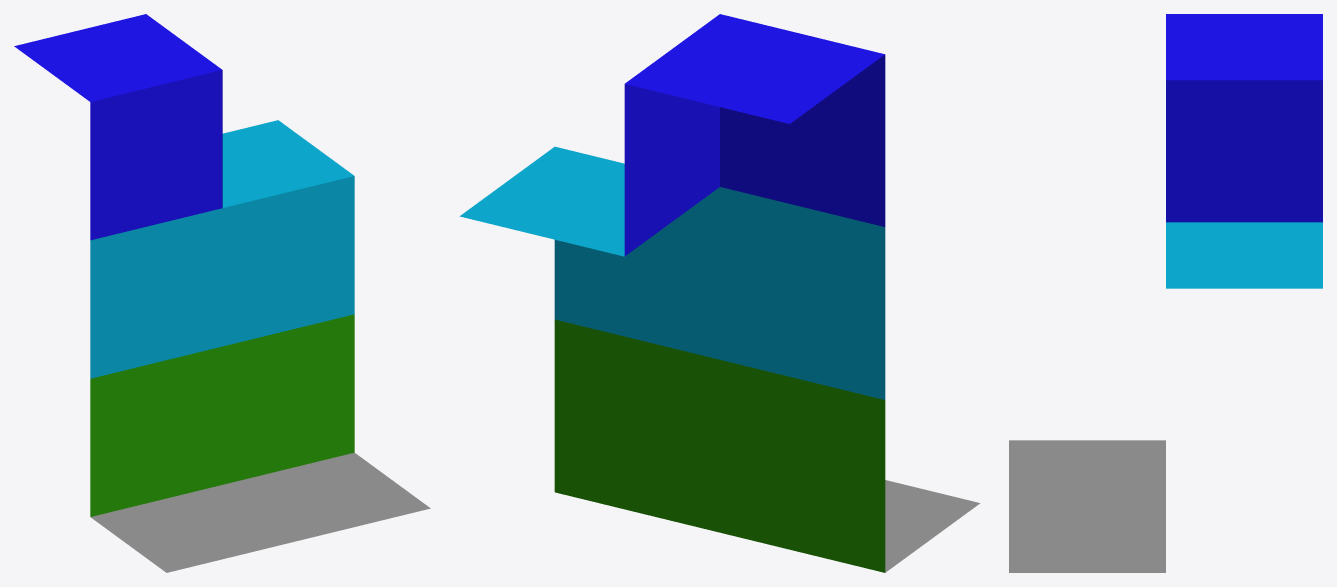
3 renders of one model, left to right at view 1: azimuth 30°, elevation 25°; view 2: azimuth 150°, elevation 25°; view 3: azimuth 270°, elevation 25°, orthographic. The views are drawn at different scales.
Parts seen in each view (by area): view 1: T_233_0_0; view 2: T_233_0_0; view 3: T_233_0_0.
Part boxes in pixels (box(x1,y1,x2,y2)): T_233_0_0: box(14, 14, 430, 572); T_233_0_0: box(459, 14, 980, 572); T_233_0_0: box(1009, 14, 1322, 572).
Size of the model in its own units: 99.79 by 150 by 99.81.
